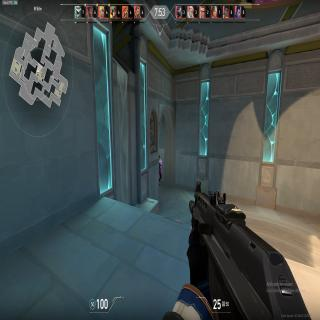ENEMY-BODY: (159, 155, 162, 185)
ENEMY-HEAD: (159, 155, 160, 161)
